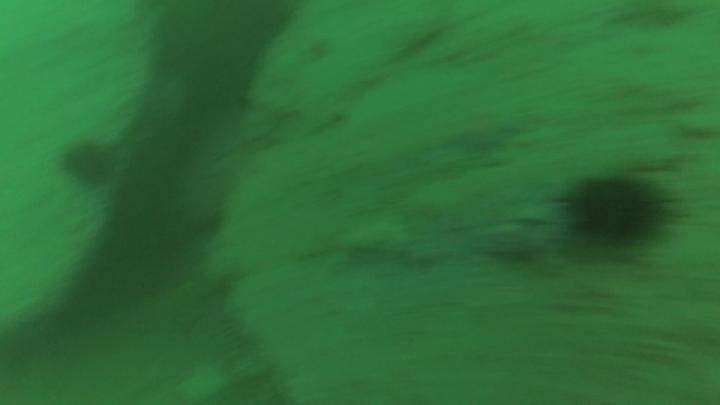echinus: (553, 163, 685, 263)
starfish: (59, 135, 121, 190)
